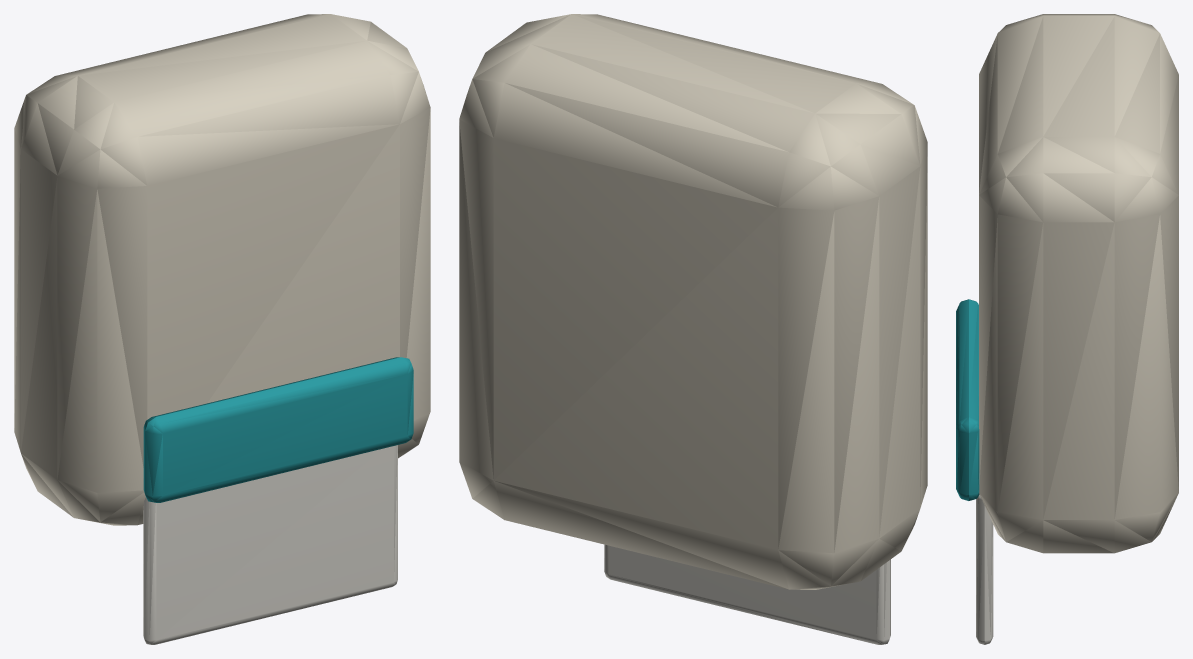
The model's file is 13_standard_towel_dispenser.glb.
3 views of the same model, side by side, from view 1: azimuth 30°, elevation 25°; view 2: azimuth 150°, elevation 25°; view 3: azimuth 270°, elevation 25° (orthographic). The views are drawn at different scales.
Parts seen in each view (by area): view 1: 13_standard_towel_dispenser__Static; view 2: 13_standard_towel_dispenser__Static; view 3: 13_standard_towel_dispenser__Static.
Part boxes in pixels (bbox=[...]): 13_standard_towel_dispenser__Static: bbox=[14, 14, 430, 644]; 13_standard_towel_dispenser__Static: bbox=[459, 14, 927, 644]; 13_standard_towel_dispenser__Static: bbox=[956, 14, 1178, 644].
Size of the model in its own units: 0.29 by 0.395 by 0.156.
